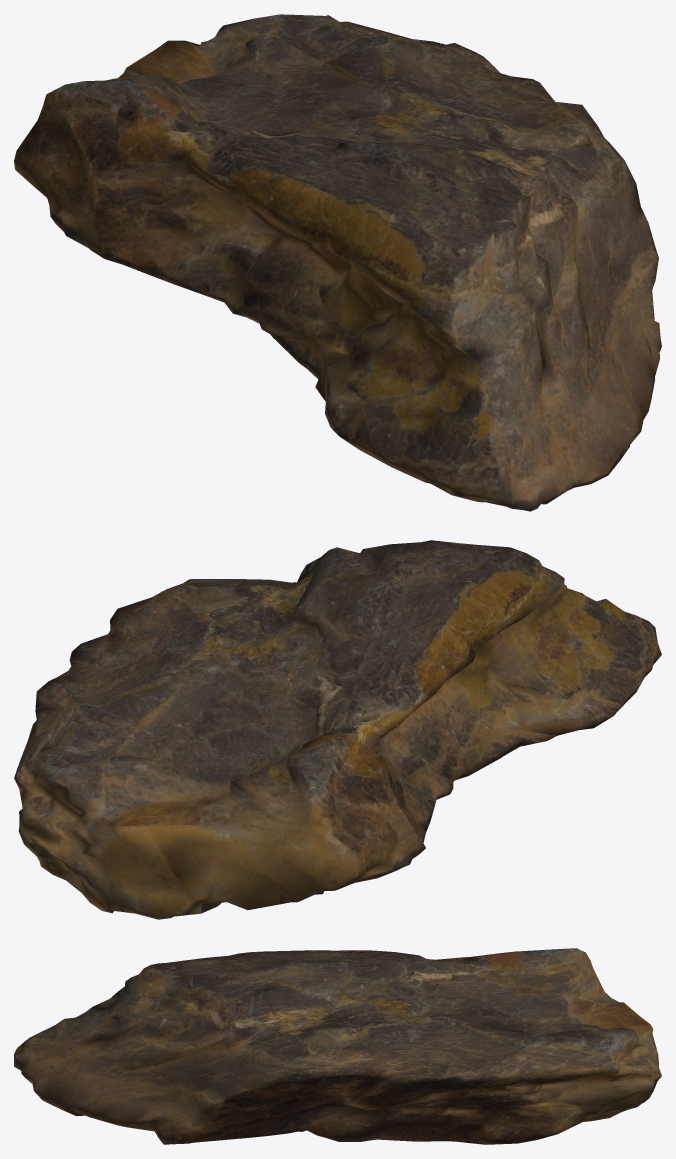
Rendered from rock_09-lod1.glb.
3 views of the same model, one above another, from view 1: azimuth 30°, elevation 25°; view 2: azimuth 150°, elevation 25°; view 3: azimuth 270°, elevation 25° (orthographic). The views are drawn at different scales.
Visible parts, largest first — view 1: rock_09_LOD0; view 2: rock_09_LOD0; view 3: rock_09_LOD0.
Part boxes in pixels (<box>): rock_09_LOD0: <box>14,14,661,511</box>; rock_09_LOD0: <box>14,540,661,919</box>; rock_09_LOD0: <box>14,948,661,1144</box>.
Bounding box in the file's own units: 0.0739 × 0.0328 × 0.1446.
1 material, 1 textured.
